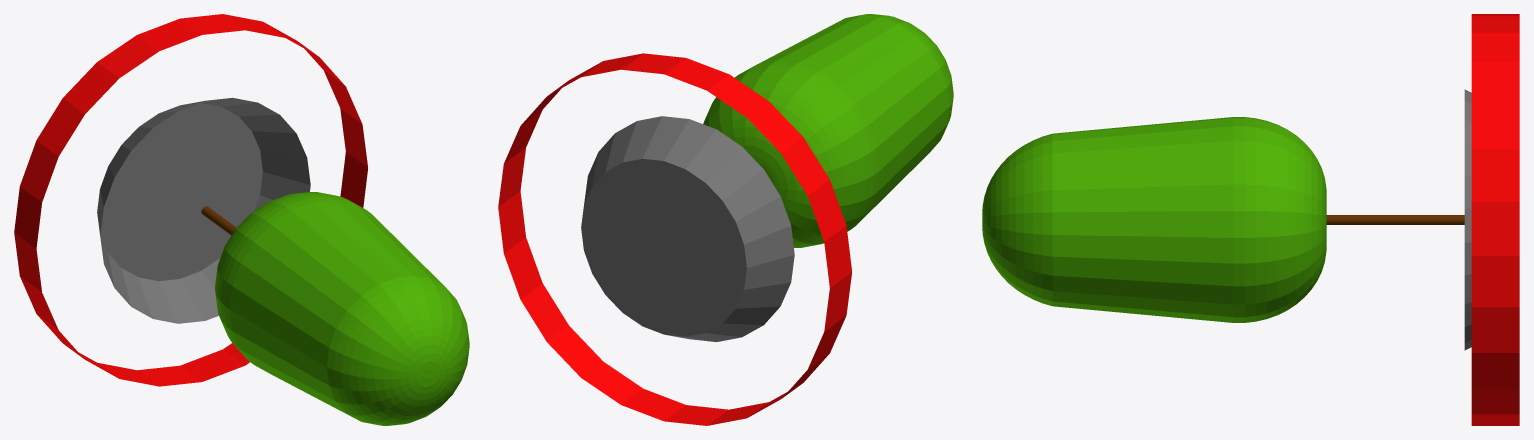
The model's file is HPS7m.obj.
3 views of the same model, side by side, from view 1: azimuth 30°, elevation 25°; view 2: azimuth 150°, elevation 25°; view 3: azimuth 270°, elevation 25° (orthographic). The views are drawn at different scales.
Bounding box in the file's own units: 6 × 6 × 7.8.
